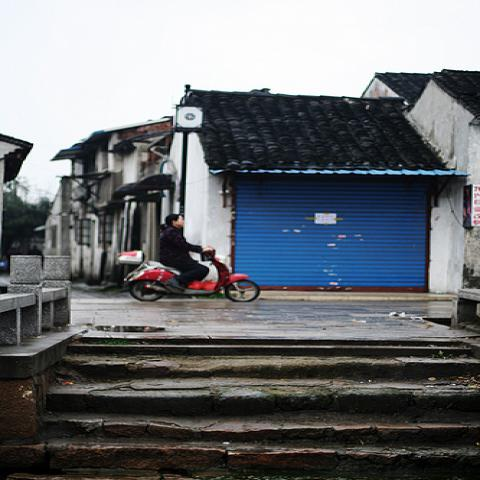motorcycle: (135, 258, 255, 301)
